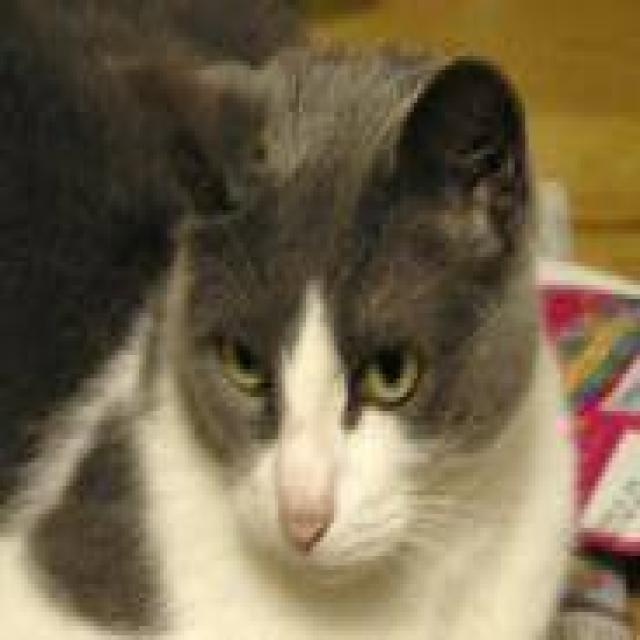cat: (0, 0, 574, 635)
